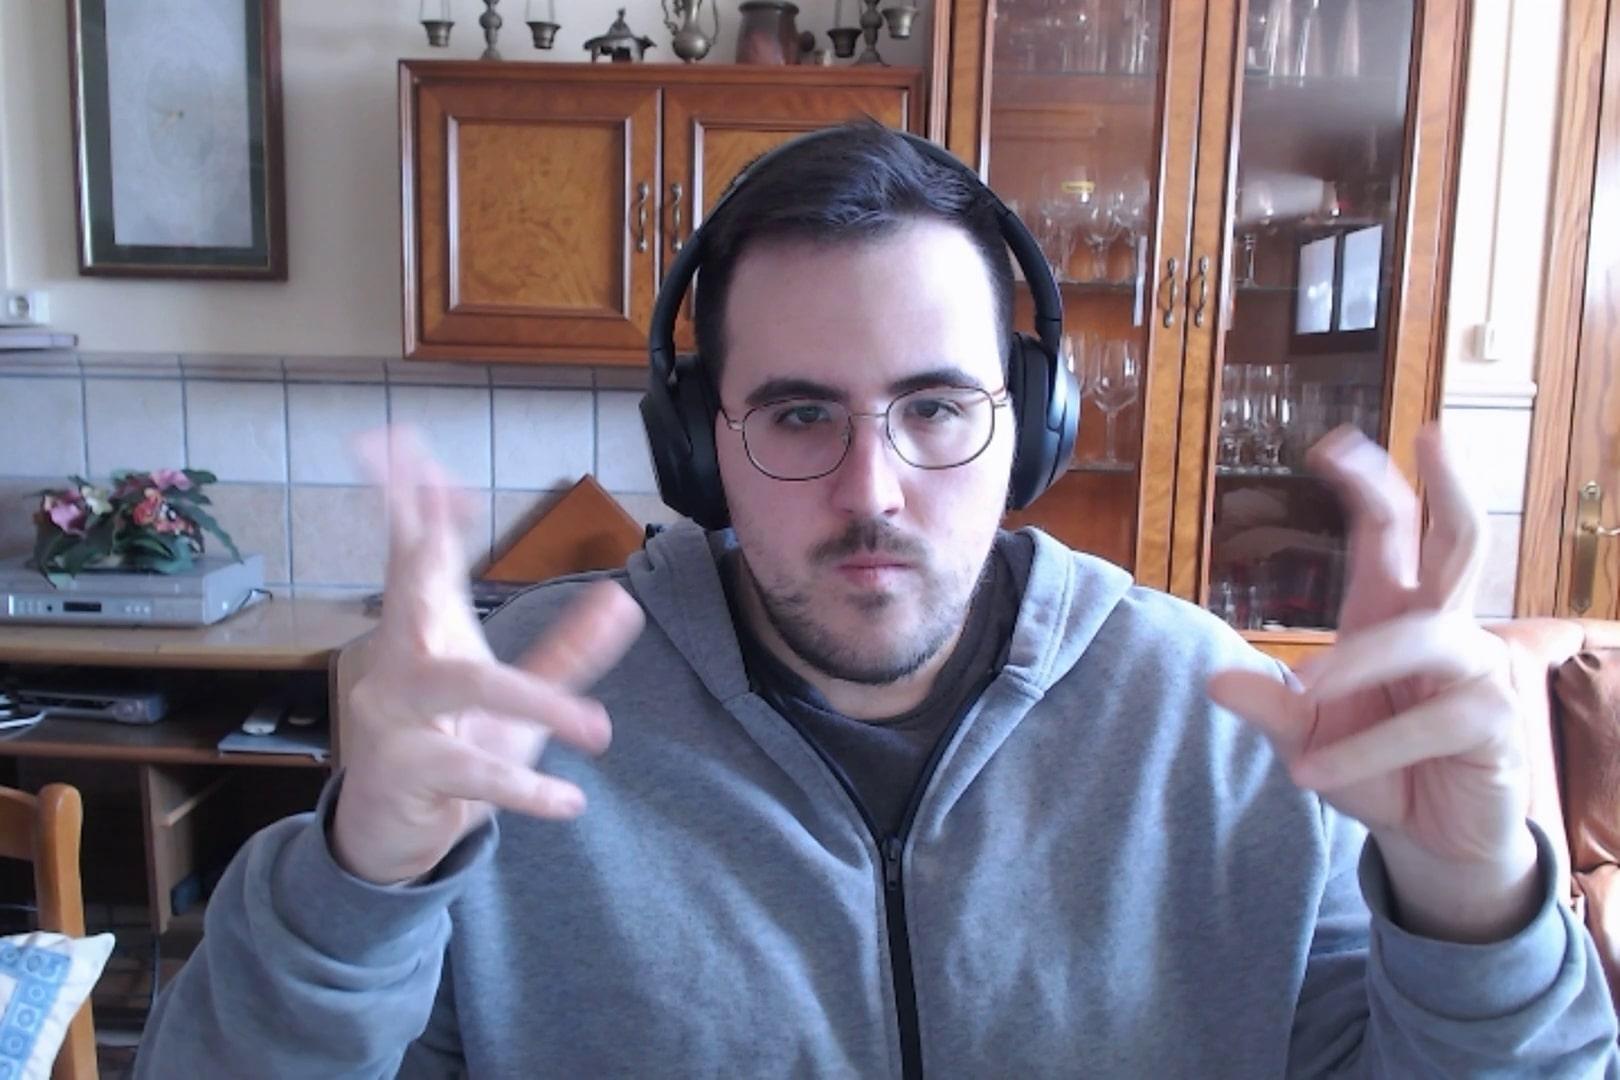hand: (1197, 424, 1545, 868), (323, 416, 651, 885)
